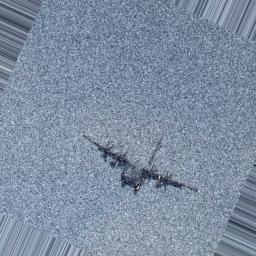Airplane: (81, 134, 201, 195)
